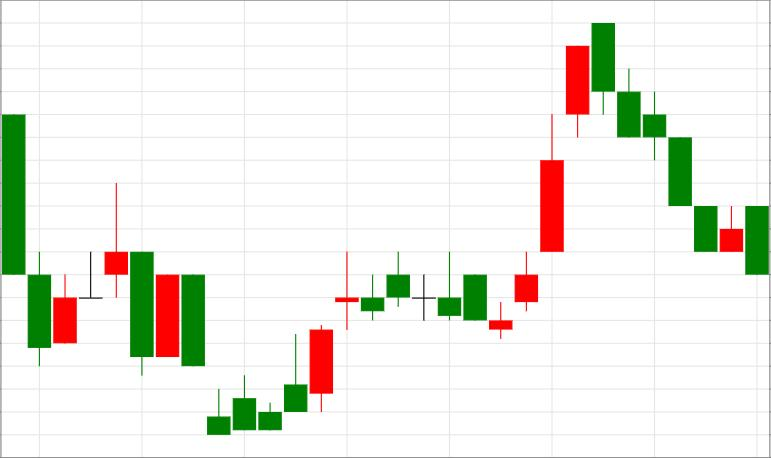morning_star_rise: (386, 251, 538, 339)
three_white_soldiers_rise: (412, 45, 590, 340)
